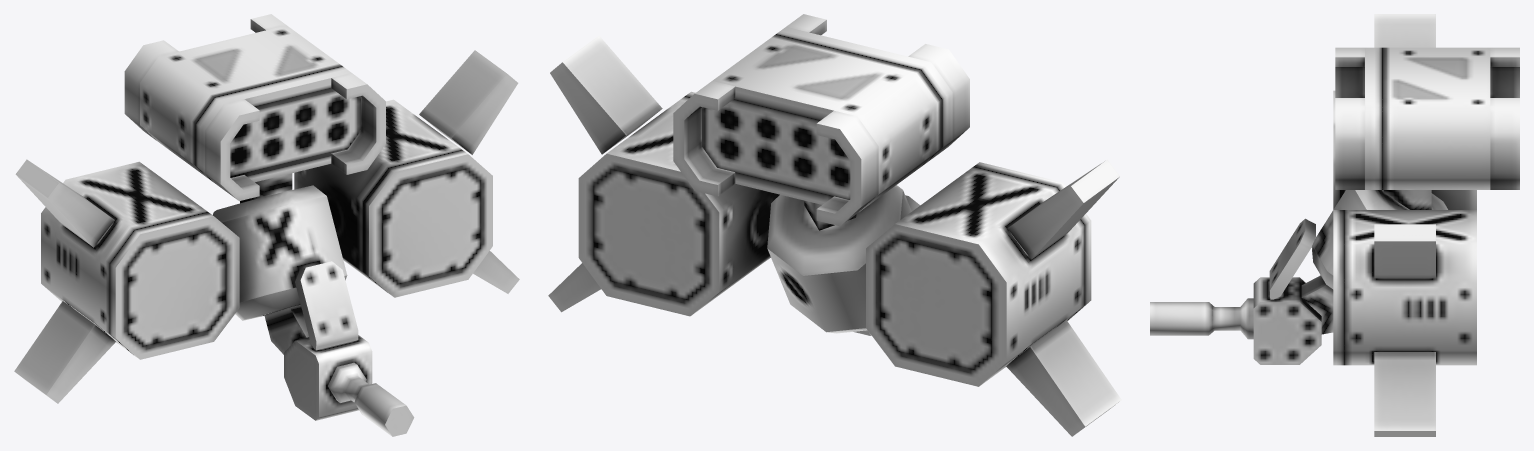
Rendered from Enemy_Rocket.FBX.
The picture shows the model from 3 angles, left to right: view 1: azimuth 30°, elevation 25°; view 2: azimuth 150°, elevation 25°; view 3: azimuth 270°, elevation 25°; orthographic projection. The views are drawn at different scales.
Visible parts, largest first — view 1: Enemy_Rocket, Enemy_Rocket_Up_Speed, Enemy_Rocket_Up_Gun, Enemy_Rocket_Up_Armor; view 2: Enemy_Rocket, Enemy_Rocket_Up_Speed, Enemy_Rocket_Up_Gun; view 3: Enemy_Rocket, Enemy_Rocket_Up_Speed, Enemy_Rocket_Up_Gun, Enemy_Rocket_Up_Armor.
Boxes of the visible parts, x1,y1,x2,y2 form: Enemy_Rocket: (41,25,492,436); Enemy_Rocket_Up_Speed: (14,50,519,403); Enemy_Rocket_Up_Gun: (124,14,385,201); Enemy_Rocket_Up_Armor: (295,261,358,350); Enemy_Rocket: (578,27,1091,386); Enemy_Rocket_Up_Speed: (548,36,1121,436); Enemy_Rocket_Up_Gun: (673,14,969,226); Enemy_Rocket: (1150,47,1490,365); Enemy_Rocket_Up_Speed: (1374,14,1435,436); Enemy_Rocket_Up_Gun: (1335,47,1519,189); Enemy_Rocket_Up_Armor: (1269,218,1315,299).
Size of the model in its own units: 150 by 86.38 by 105.
